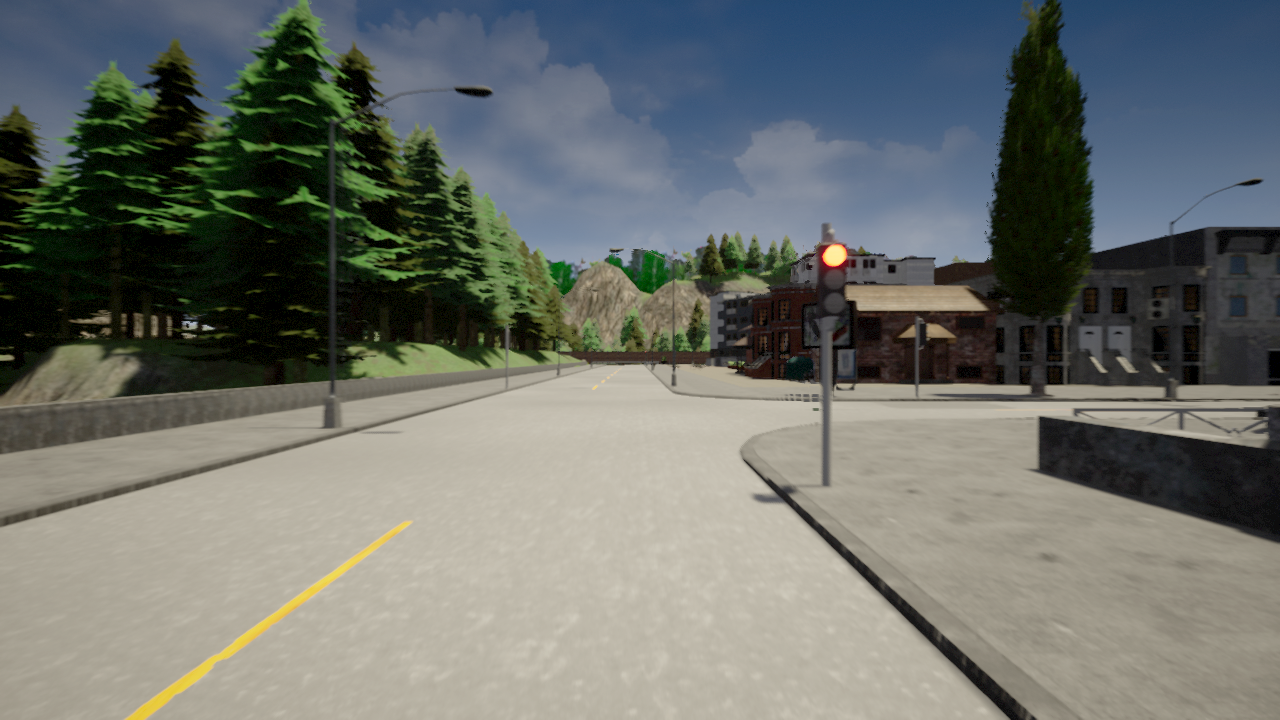red: (813, 243, 852, 317)
